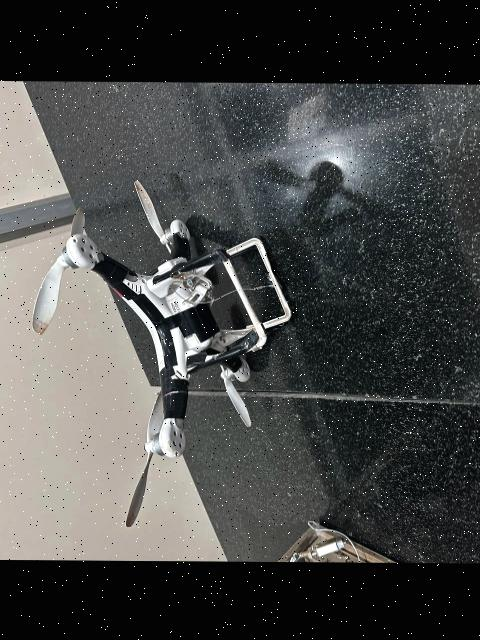drone: (21, 173, 328, 543)
